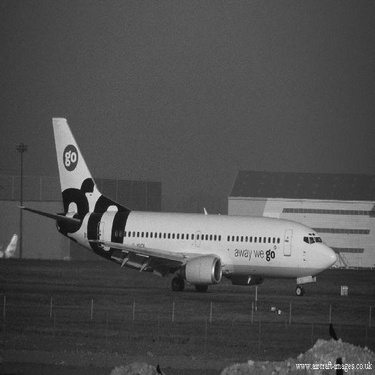airplane: (11, 105, 344, 297)
